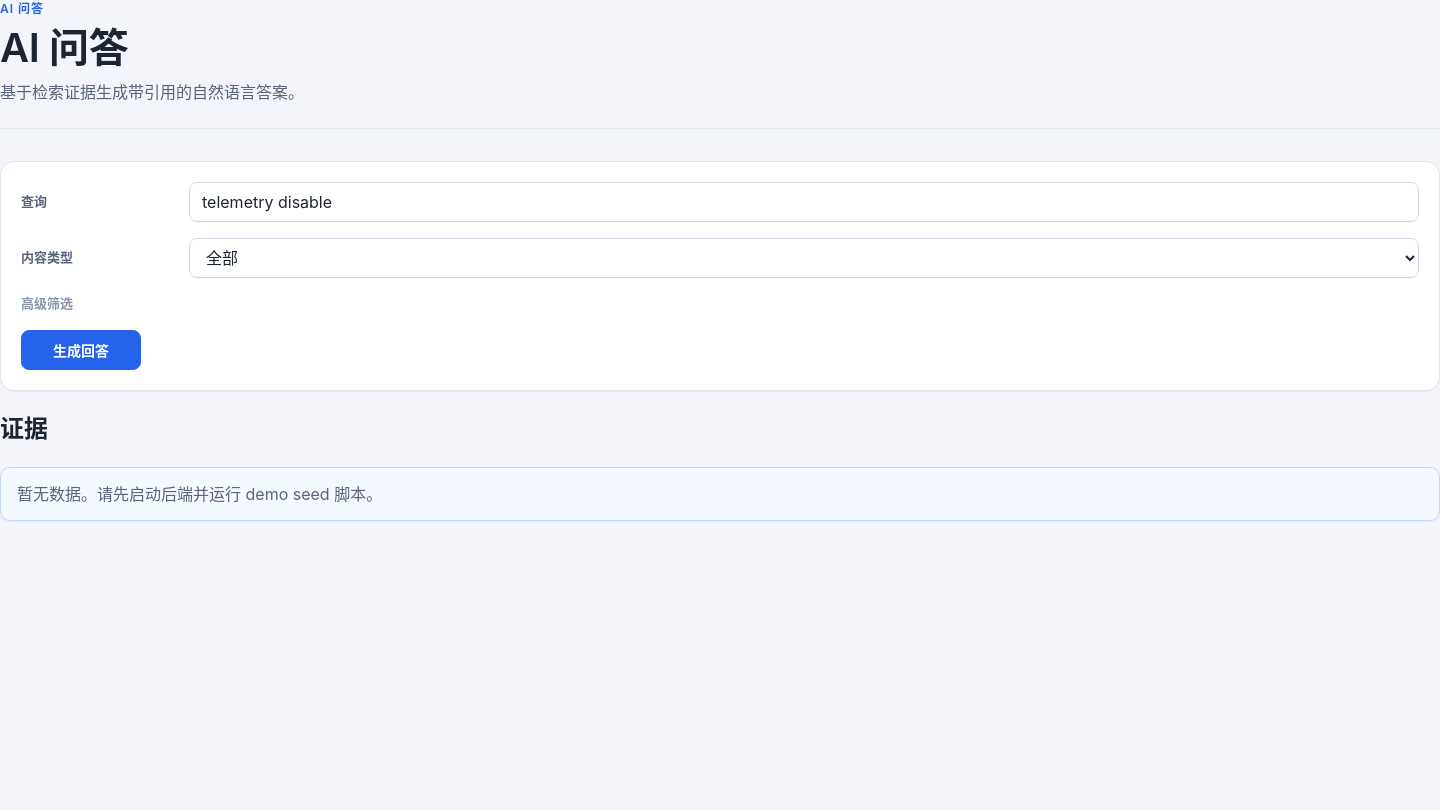
SearchPage › clears stale answer state when submitting a blank Top K after a successful answer
Click the button "生成回答": {"x": 81, "y": 350} [21,330,141,370]
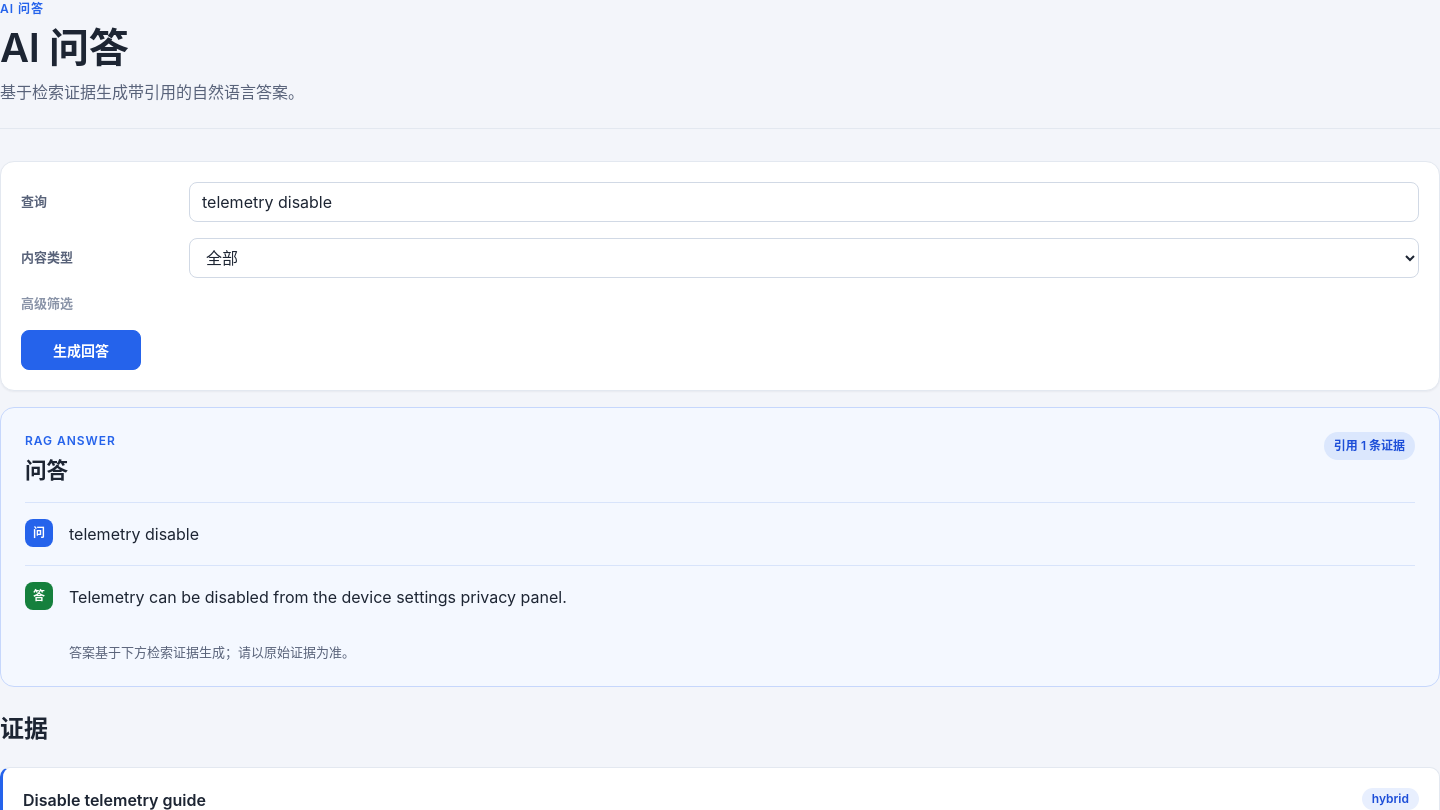
Now the heading "问答" is shown, box [25,457,68,483]
Click the button "生成回答": {"x": 81, "y": 350} [21,330,141,370]
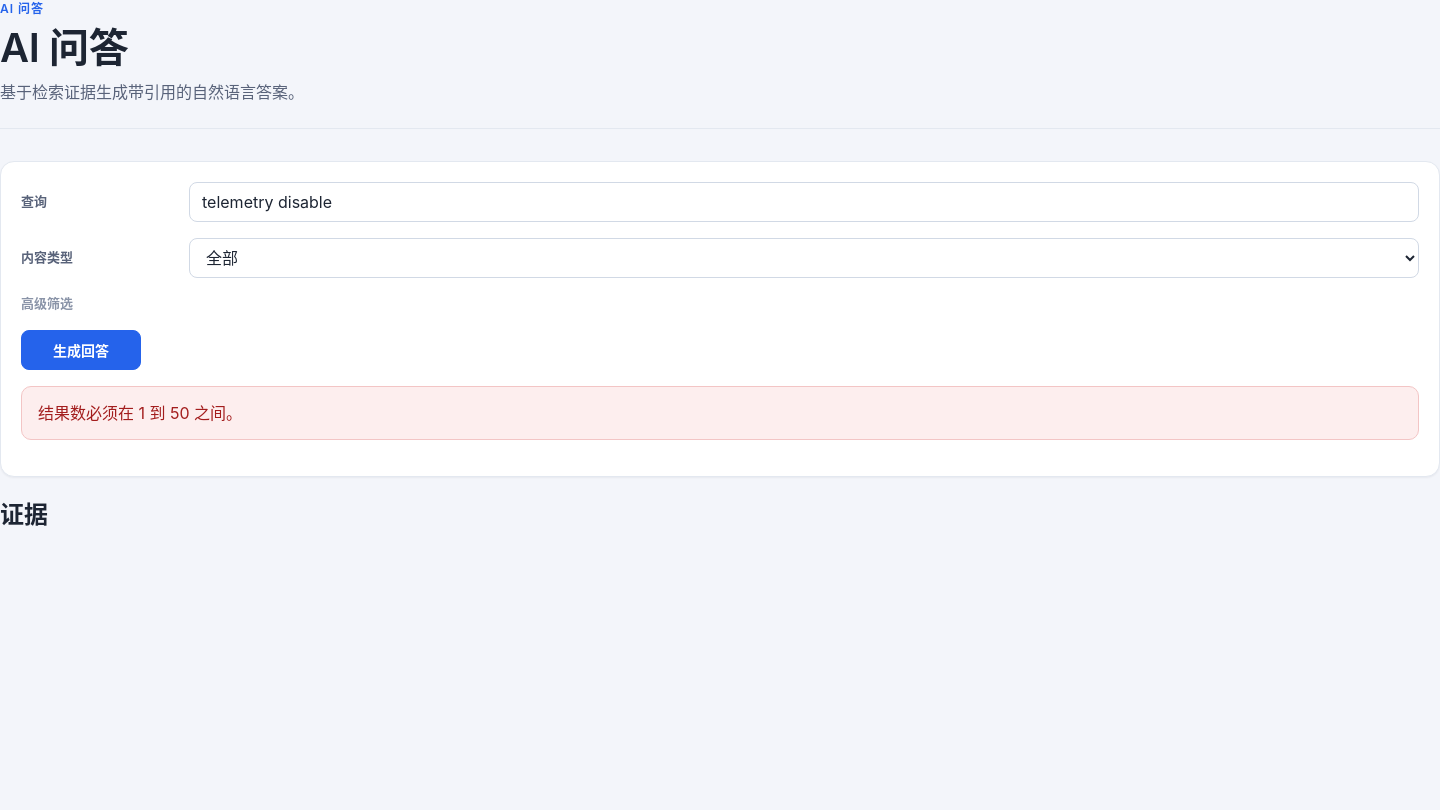
Now the message reads "结果数必须在 1 到 50 之间。", box [38,403,242,423]
Now the text "Telemetry can be disabled from the device settings privacy panel." is gone
